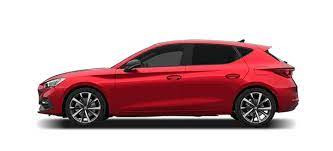car: (37, 38, 300, 129)
